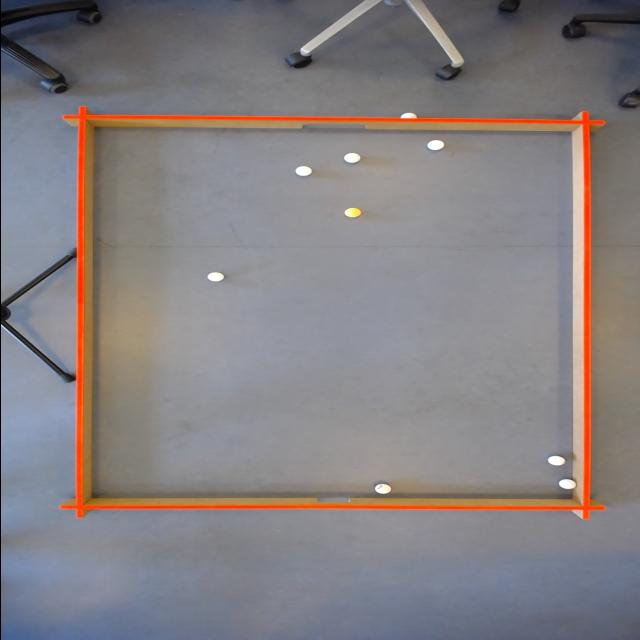orange_ball: (340, 206, 362, 218)
white_ball: (290, 164, 314, 178), (542, 454, 566, 468), (338, 151, 362, 164), (203, 272, 226, 284), (422, 139, 445, 151), (556, 478, 578, 490), (371, 484, 392, 496), (397, 111, 417, 122)
